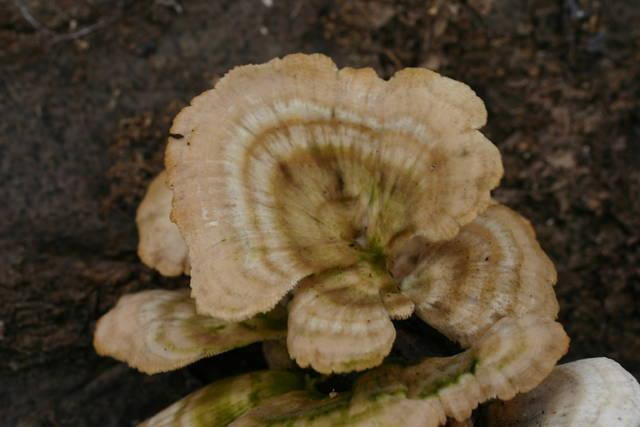poisonous_mushroom: (88, 32, 610, 427)
